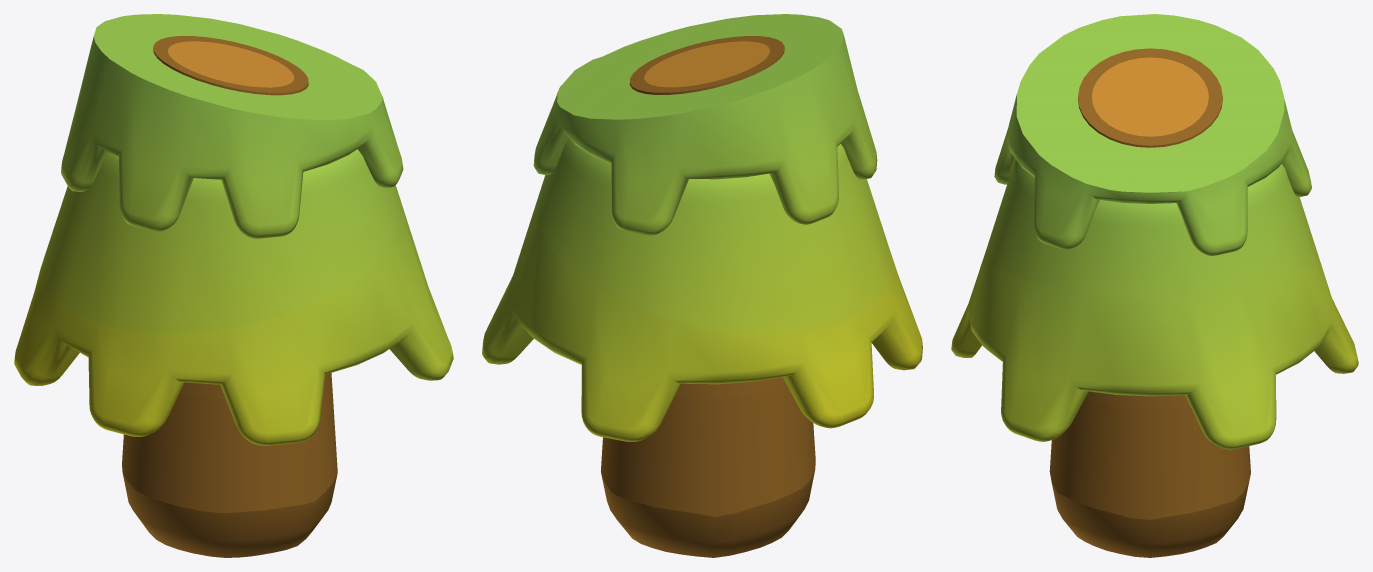
File: tree1 60%.fbx
The picture shows the model from 3 angles, left to right: view 1: azimuth 30°, elevation 25°; view 2: azimuth 150°, elevation 25°; view 3: azimuth 270°, elevation 25°; orthographic projection. The views are drawn at different scales.
Visible parts, largest first — view 1: Cylinder.009; view 2: Cylinder.009; view 3: Cylinder.009.
Part boxes in pixels (box(x1,y1,x2,y2)): Cylinder.009: box(14, 14, 453, 557); Cylinder.009: box(482, 14, 922, 557); Cylinder.009: box(951, 14, 1358, 557).
Size of the model in its own units: 90.83 by 119 by 94.36.
